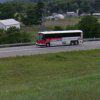Bus: (30, 28, 87, 52)
